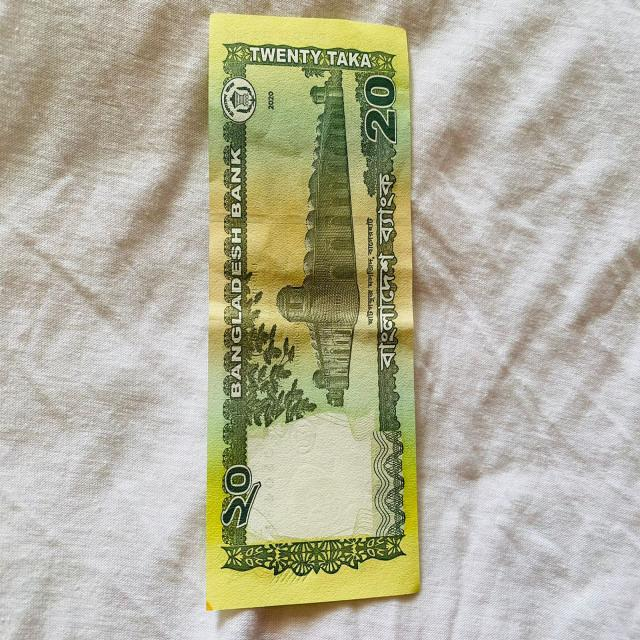Taka: (201, 3, 423, 621)
